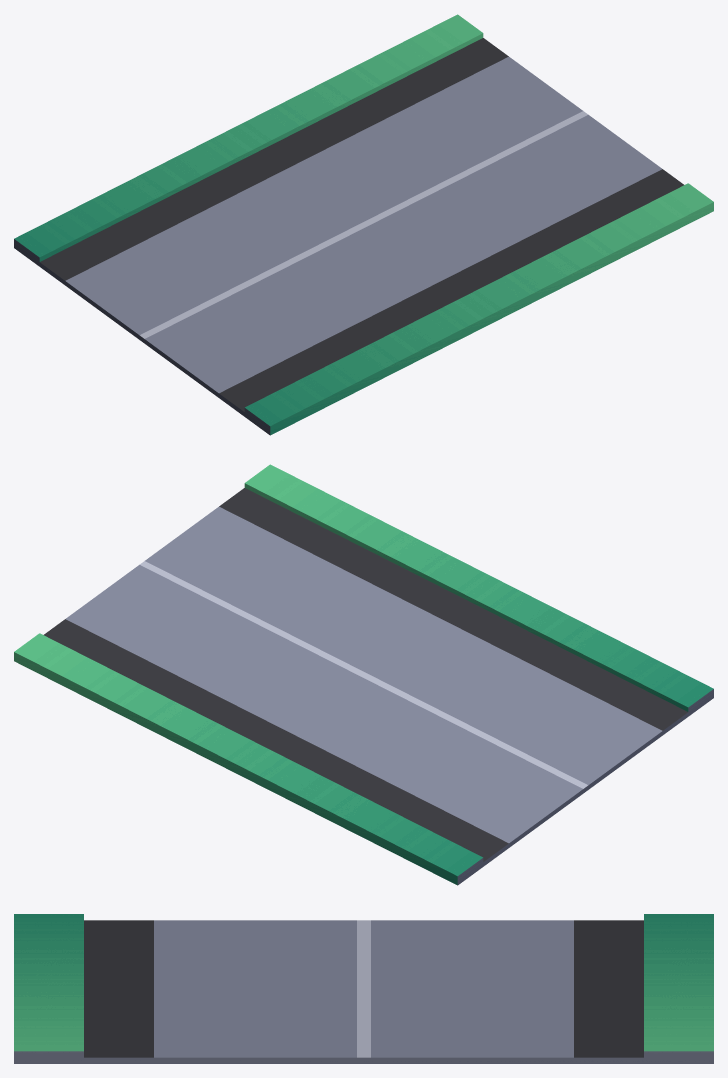
The model's file is road_slant_flat.glb.
The picture shows the model from 3 angles, top to bottom: view 1: azimuth 30°, elevation 25°; view 2: azimuth 150°, elevation 25°; view 3: azimuth 270°, elevation 25°; orthographic projection. The views are drawn at different scales.
Parts seen in each view (by area): view 1: road-slant-flat; view 2: road-slant-flat; view 3: road-slant-flat.
Boxes of the visible parts, bbox=[...] form: road-slant-flat: bbox=[14, 14, 713, 435]; road-slant-flat: bbox=[14, 464, 713, 885]; road-slant-flat: bbox=[14, 914, 713, 1063].
Bounding box in the file's own units: 1 × 0.27 × 1.
Materials: 1 (1 with a texture image).
